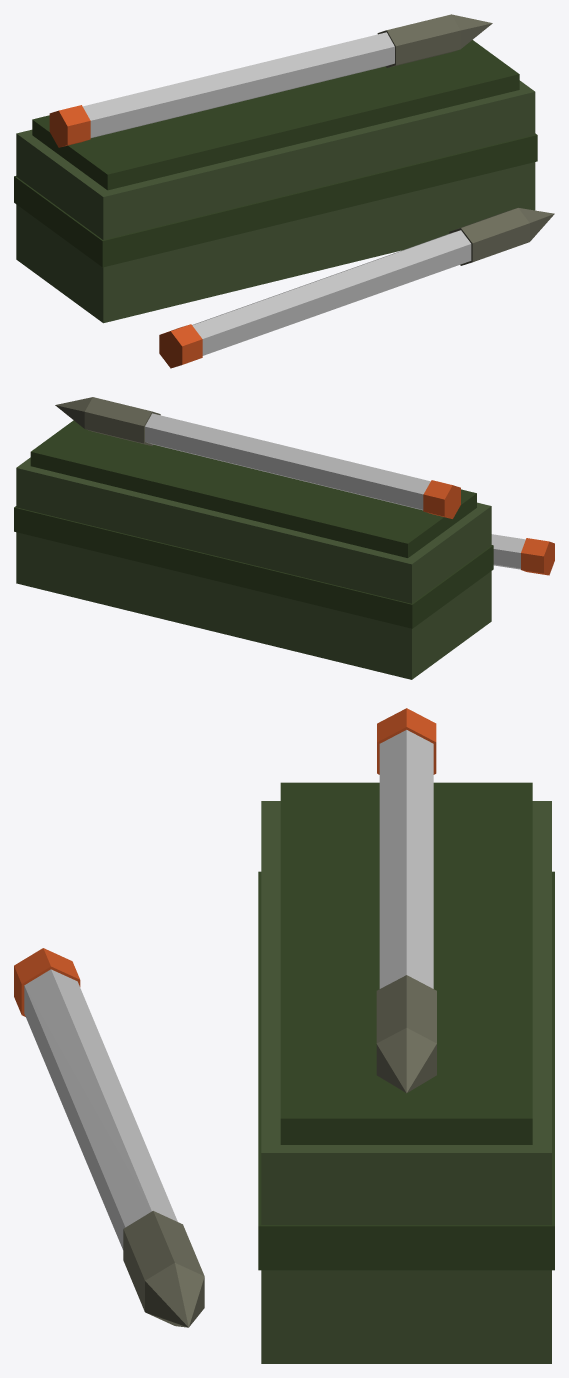
Rendered from ce_ammo2_s5_thermo_c.obj.
The picture shows the model from 3 angles, top to bottom: view 1: azimuth 30°, elevation 25°; view 2: azimuth 150°, elevation 25°; view 3: azimuth 270°, elevation 25°; orthographic projection. The views are drawn at different scales.
Visible parts, largest first — view 1: ce_ammo2_s5_thermo_c_0, ce_ammo2_s5_thermo_c_1, ce_ammo2_s5_thermo_c_2, ce_ammo2_s5_thermo_c_4, ce_ammo2_s5_thermo_c_8, ce_ammo2_s5_thermo_c_5, ce_ammo2_s5_thermo_c_9, ce_ammo2_s5_thermo_c_7, ce_ammo2_s5_thermo_c_3, ce_ammo2_s5_thermo_c_6, ce_ammo2_s5_thermo_c_10; view 2: ce_ammo2_s5_thermo_c_0, ce_ammo2_s5_thermo_c_1, ce_ammo2_s5_thermo_c_2, ce_ammo2_s5_thermo_c_4, ce_ammo2_s5_thermo_c_5, ce_ammo2_s5_thermo_c_3, ce_ammo2_s5_thermo_c_7, ce_ammo2_s5_thermo_c_8, ce_ammo2_s5_thermo_c_6; view 3: ce_ammo2_s5_thermo_c_1, ce_ammo2_s5_thermo_c_0, ce_ammo2_s5_thermo_c_8, ce_ammo2_s5_thermo_c_2, ce_ammo2_s5_thermo_c_4, ce_ammo2_s5_thermo_c_9, ce_ammo2_s5_thermo_c_5, ce_ammo2_s5_thermo_c_10, ce_ammo2_s5_thermo_c_6, ce_ammo2_s5_thermo_c_7, ce_ammo2_s5_thermo_c_3.
Boxes of the visible parts, bbox=[...] form: ce_ammo2_s5_thermo_c_0: bbox=[16, 80, 535, 323]; ce_ammo2_s5_thermo_c_1: bbox=[32, 40, 519, 190]; ce_ammo2_s5_thermo_c_2: bbox=[14, 133, 537, 267]; ce_ammo2_s5_thermo_c_4: bbox=[82, 32, 394, 137]; ce_ammo2_s5_thermo_c_8: bbox=[192, 230, 471, 355]; ce_ammo2_s5_thermo_c_5: bbox=[377, 14, 460, 67]; ce_ammo2_s5_thermo_c_9: bbox=[449, 208, 529, 265]; ce_ammo2_s5_thermo_c_7: bbox=[159, 324, 202, 368]; ce_ammo2_s5_thermo_c_3: bbox=[49, 105, 90, 147]; ce_ammo2_s5_thermo_c_6: bbox=[451, 14, 492, 48]; ce_ammo2_s5_thermo_c_10: bbox=[518, 208, 554, 241]; ce_ammo2_s5_thermo_c_0: bbox=[16, 457, 491, 679]; ce_ammo2_s5_thermo_c_1: bbox=[30, 420, 476, 557]; ce_ammo2_s5_thermo_c_2: bbox=[14, 506, 493, 628]; ce_ammo2_s5_thermo_c_4: bbox=[145, 413, 430, 510]; ce_ammo2_s5_thermo_c_5: bbox=[84, 397, 160, 445]; ce_ammo2_s5_thermo_c_3: bbox=[423, 480, 460, 518]; ce_ammo2_s5_thermo_c_7: bbox=[521, 538, 554, 575]; ce_ammo2_s5_thermo_c_8: bbox=[491, 534, 525, 569]; ce_ammo2_s5_thermo_c_6: bbox=[55, 397, 92, 428]; ce_ammo2_s5_thermo_c_1: bbox=[280, 782, 532, 1144]; ce_ammo2_s5_thermo_c_0: bbox=[261, 801, 551, 1363]; ce_ammo2_s5_thermo_c_8: bbox=[24, 969, 177, 1249]; ce_ammo2_s5_thermo_c_2: bbox=[258, 871, 554, 1270]; ce_ammo2_s5_thermo_c_4: bbox=[379, 730, 433, 988]; ce_ammo2_s5_thermo_c_9: bbox=[123, 1211, 204, 1311]; ce_ammo2_s5_thermo_c_5: bbox=[376, 975, 436, 1043]; ce_ammo2_s5_thermo_c_10: bbox=[145, 1263, 204, 1327]; ce_ammo2_s5_thermo_c_6: bbox=[376, 1028, 436, 1093]; ce_ammo2_s5_thermo_c_7: bbox=[14, 948, 80, 1016]; ce_ammo2_s5_thermo_c_3: bbox=[377, 708, 436, 774].
Bounding box in the file's own units: 0.866 × 0.3453 × 0.5583.
